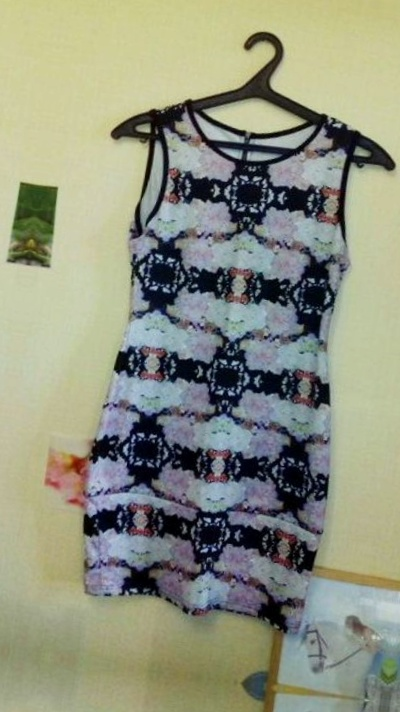Dress: (12, 46, 400, 661), (0, 0, 27, 604), (0, 692, 362, 712)
